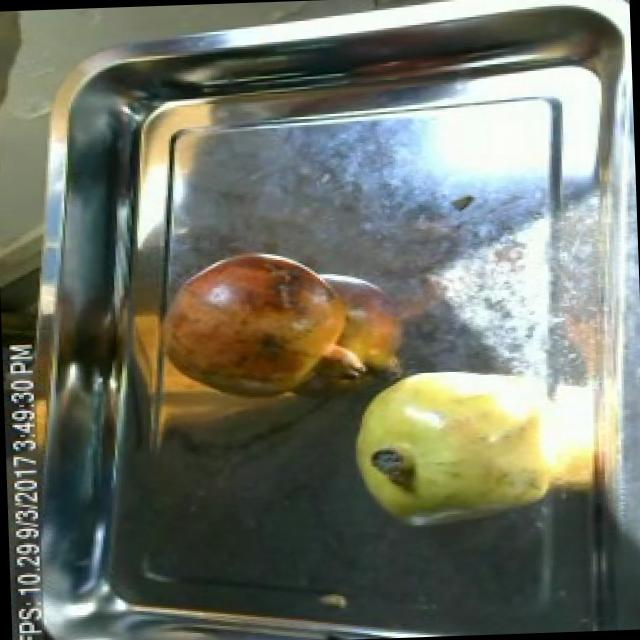fruit: (336, 350, 578, 546), (144, 243, 362, 410)
